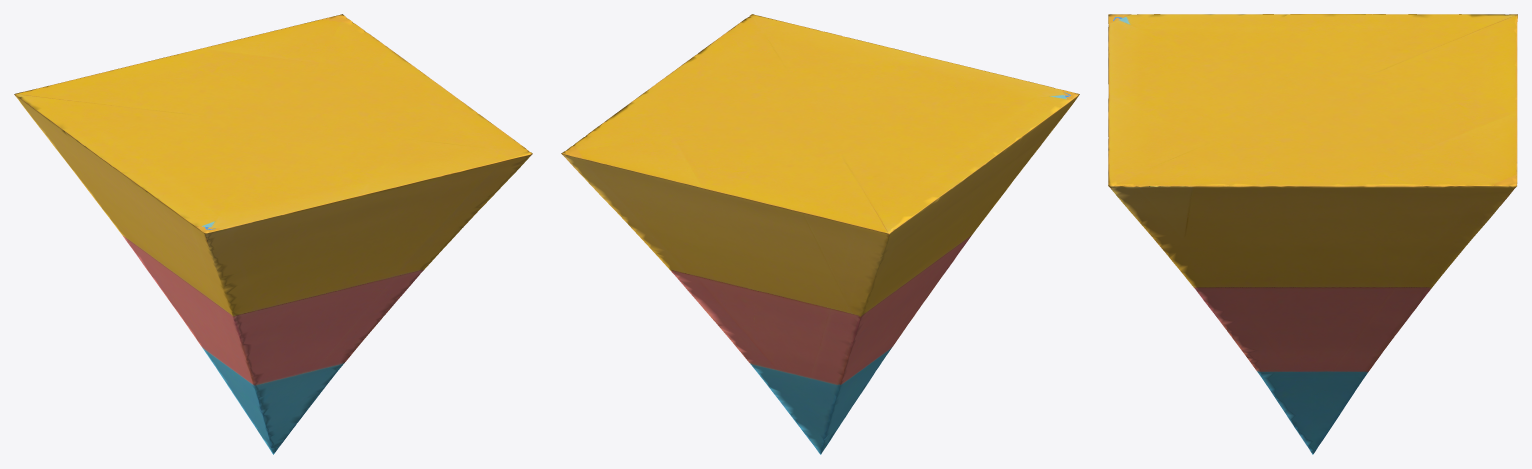
Rendered from Inverted_Pastel_Pyram_0611173720_texture.glb.
3 renders of one model, left to right at view 1: azimuth 30°, elevation 25°; view 2: azimuth 150°, elevation 25°; view 3: azimuth 270°, elevation 25°, orthographic. The views are drawn at different scales.
Bounding box in the file's own units: 1.97 × 1.89 × 1.98.
Materials: 1 (1 with a texture image).
